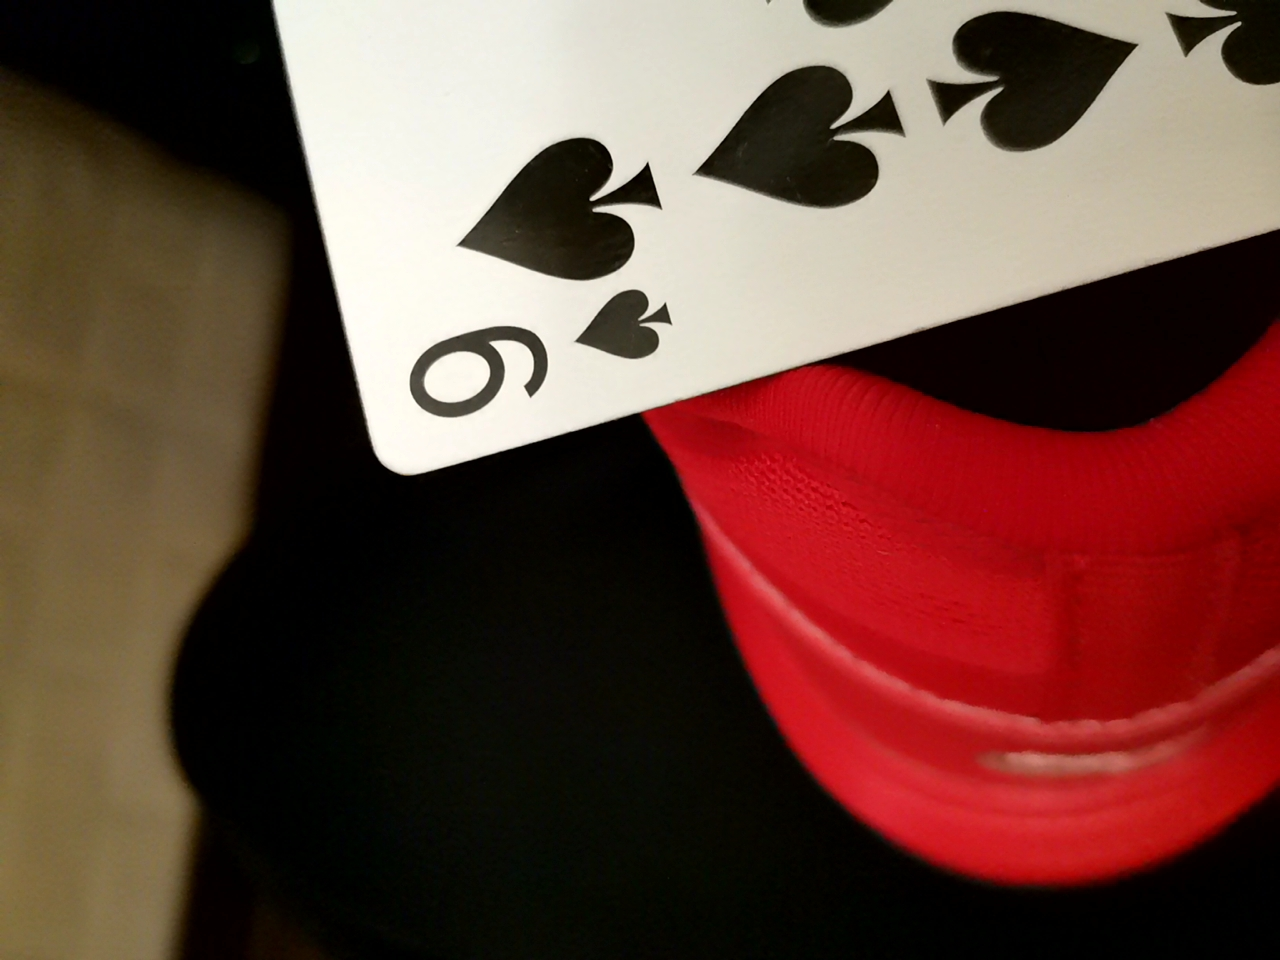ht 9: (164, 1, 1276, 528)
